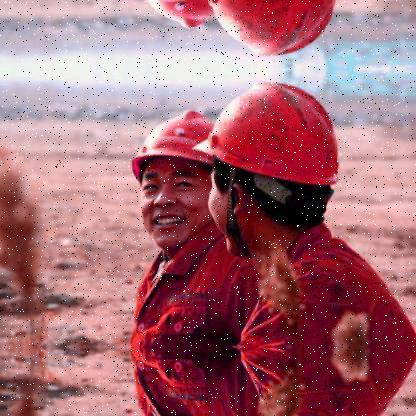Helmet: (208, 83, 346, 266), (132, 108, 219, 259), (210, 0, 340, 55), (144, 0, 218, 31)
